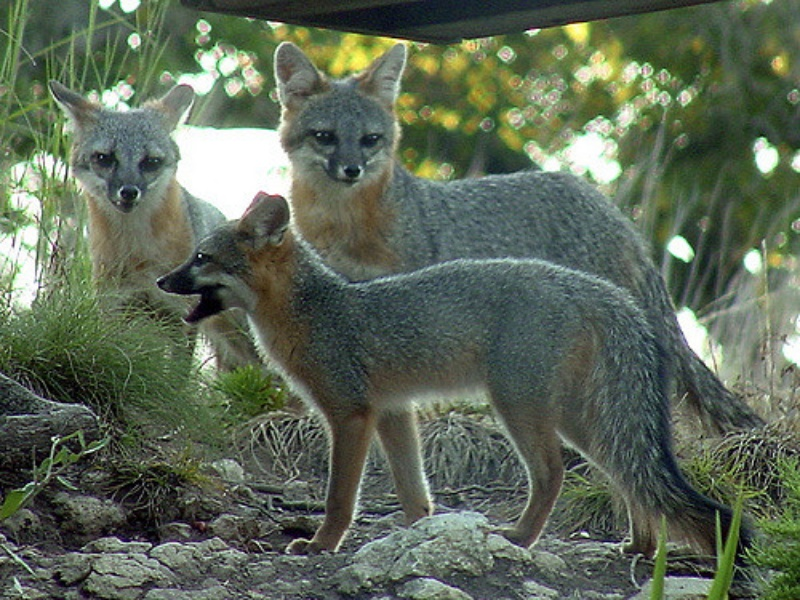fox: (164, 190, 753, 566), (263, 41, 771, 444), (43, 79, 269, 392)
